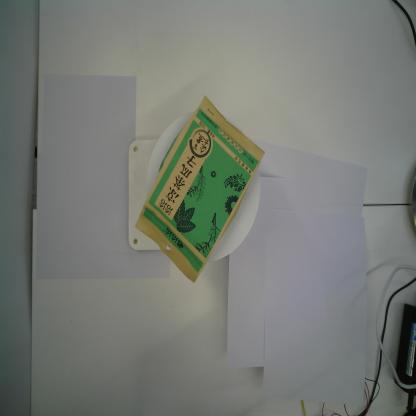Dried Food: (132, 92, 266, 289)
